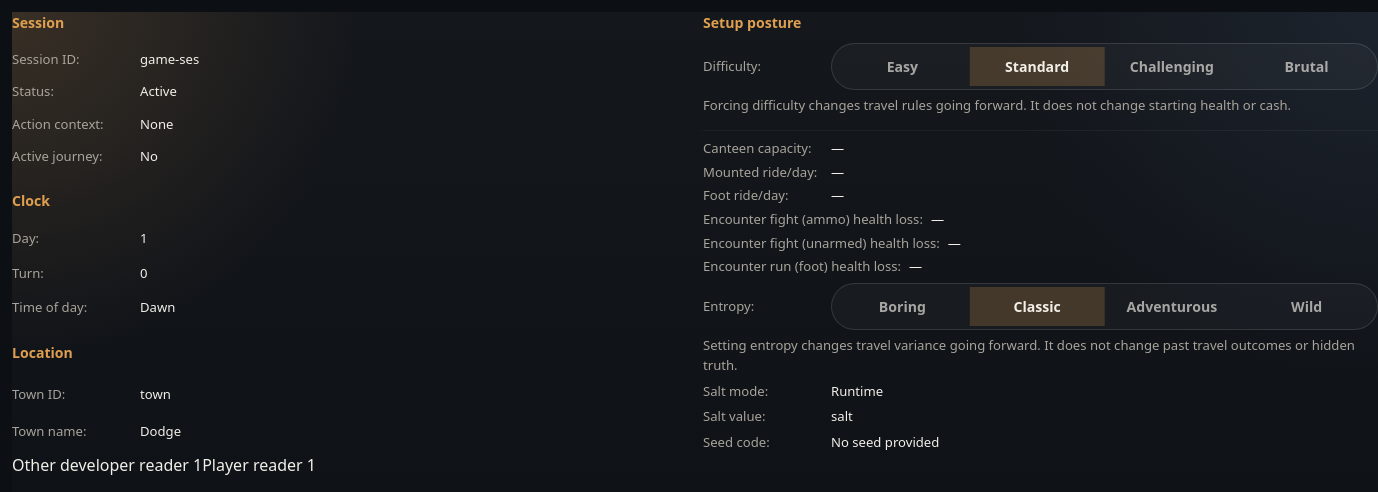
it: developer command resource refresh › refreshes another developer panel and player readers after a session command
This screenshot has width=1378, height=492.
Expected: the text "Other developer reader 1" is shown, x1=12 y1=454 x2=202 y2=476
Expected: the text "Player reader 1" is shown, x1=202 y1=454 x2=316 y2=476
Click the button "Brutal": {"x": 1307, "y": 67} x1=1239 y1=47 x2=1374 y2=86
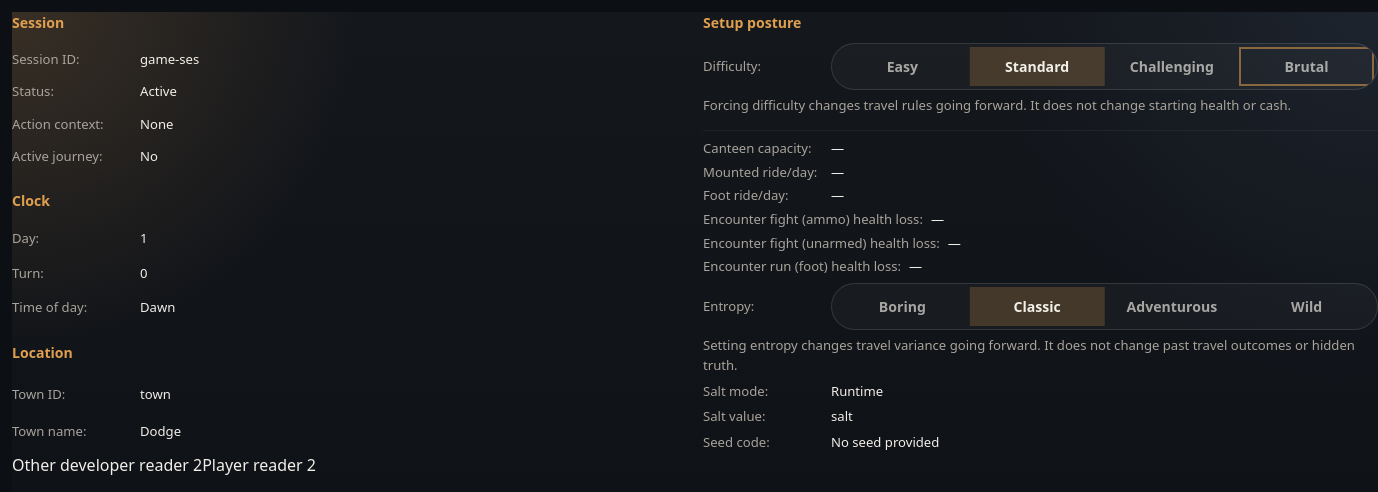
Now the text "Other developer reader 2" is shown, box x1=12 y1=454 x2=202 y2=476
Now the text "Player reader 2" is shown, box x1=202 y1=454 x2=316 y2=476
